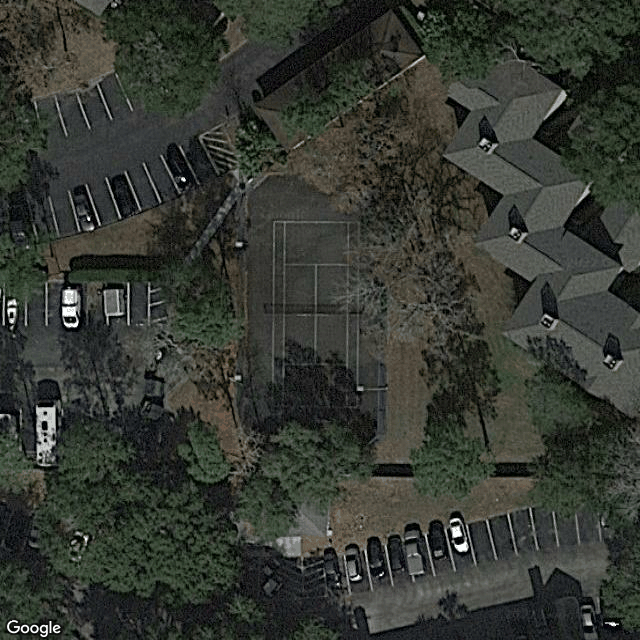Court: (268, 219, 361, 409)
